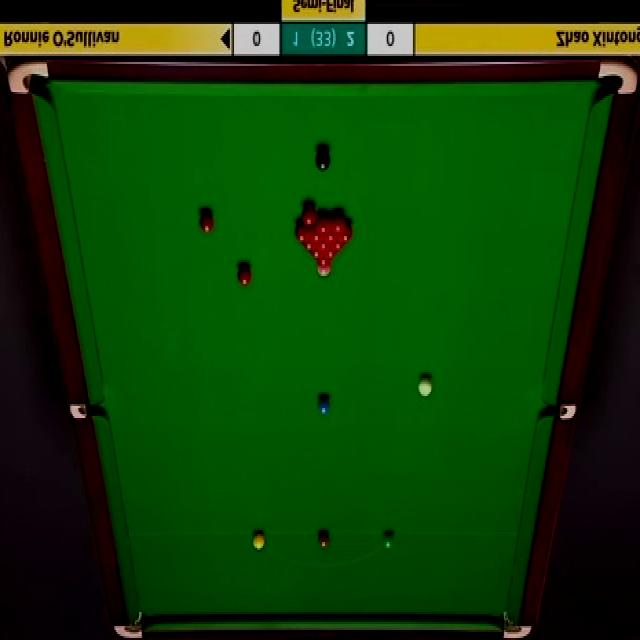black-ball: (315, 147, 331, 173)
blue-ball: (317, 398, 330, 416)
brown-ball: (317, 531, 330, 548)
green-ball: (382, 528, 396, 552)
pink-ball: (317, 260, 332, 277)
red-ball: (198, 209, 214, 234), (331, 209, 346, 235), (295, 220, 311, 244), (301, 206, 317, 228), (238, 262, 252, 287), (322, 224, 340, 242), (317, 214, 331, 235), (338, 224, 353, 243), (330, 238, 346, 253), (302, 239, 318, 253), (311, 222, 322, 242), (317, 238, 331, 252), (324, 246, 336, 262), (310, 248, 324, 260)
white-ball: (418, 372, 432, 396)
yellow-ball: (252, 530, 266, 551)
